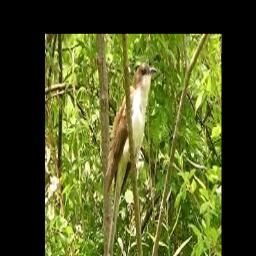Cuckoo: (106, 64, 157, 192)
